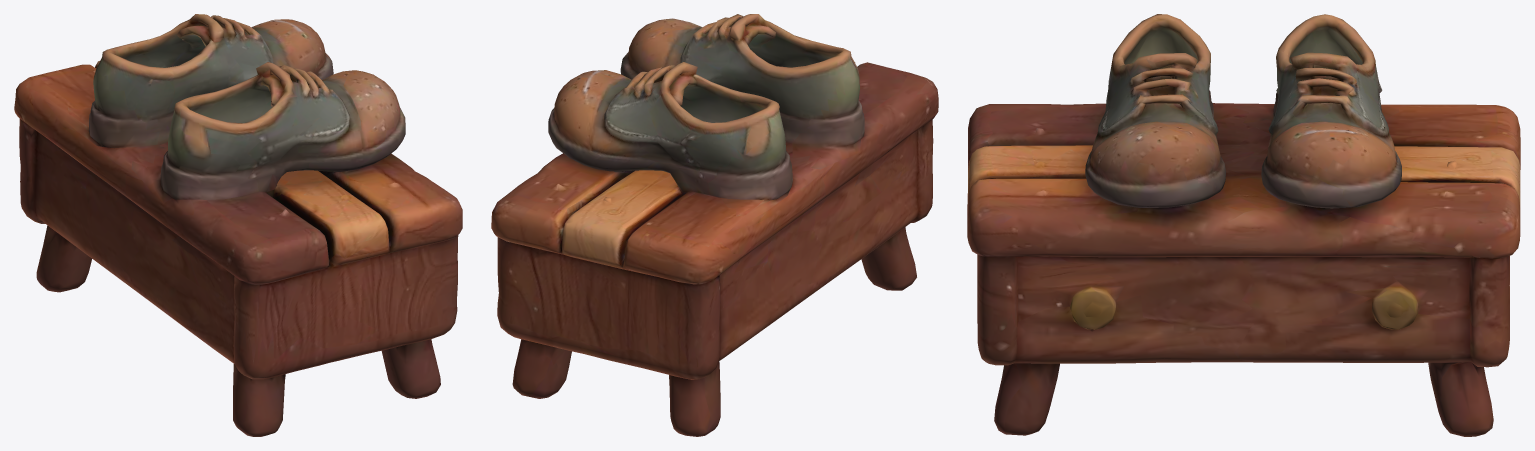
File: shoes.glb
The picture shows the model from 3 angles, left to right: view 1: azimuth 30°, elevation 25°; view 2: azimuth 150°, elevation 25°; view 3: azimuth 270°, elevation 25°; orthographic projection. The views are drawn at different scales.
Visible parts, largest first — view 1: tripo_node_96d94b32-f4d3-4a9c-b375-627c6bf27584; view 2: tripo_node_96d94b32-f4d3-4a9c-b375-627c6bf27584; view 3: tripo_node_96d94b32-f4d3-4a9c-b375-627c6bf27584.
Part boxes in pixels (<box>): tripo_node_96d94b32-f4d3-4a9c-b375-627c6bf27584: <box>14,14,462,436</box>; tripo_node_96d94b32-f4d3-4a9c-b375-627c6bf27584: <box>491,14,938,436</box>; tripo_node_96d94b32-f4d3-4a9c-b375-627c6bf27584: <box>967,14,1520,436</box>.
Size of the model in its own units: 0.5554 by 0.6709 by 1.
Materials: 1 (1 with a texture image).
